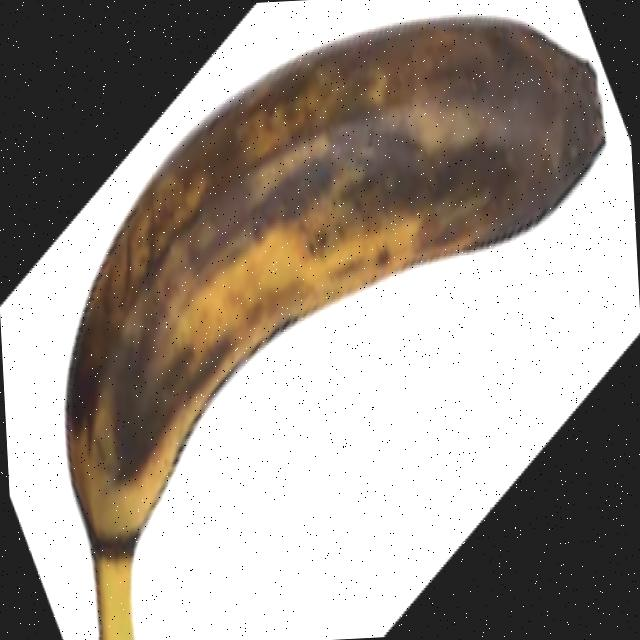Rotten: (43, 10, 634, 640)
